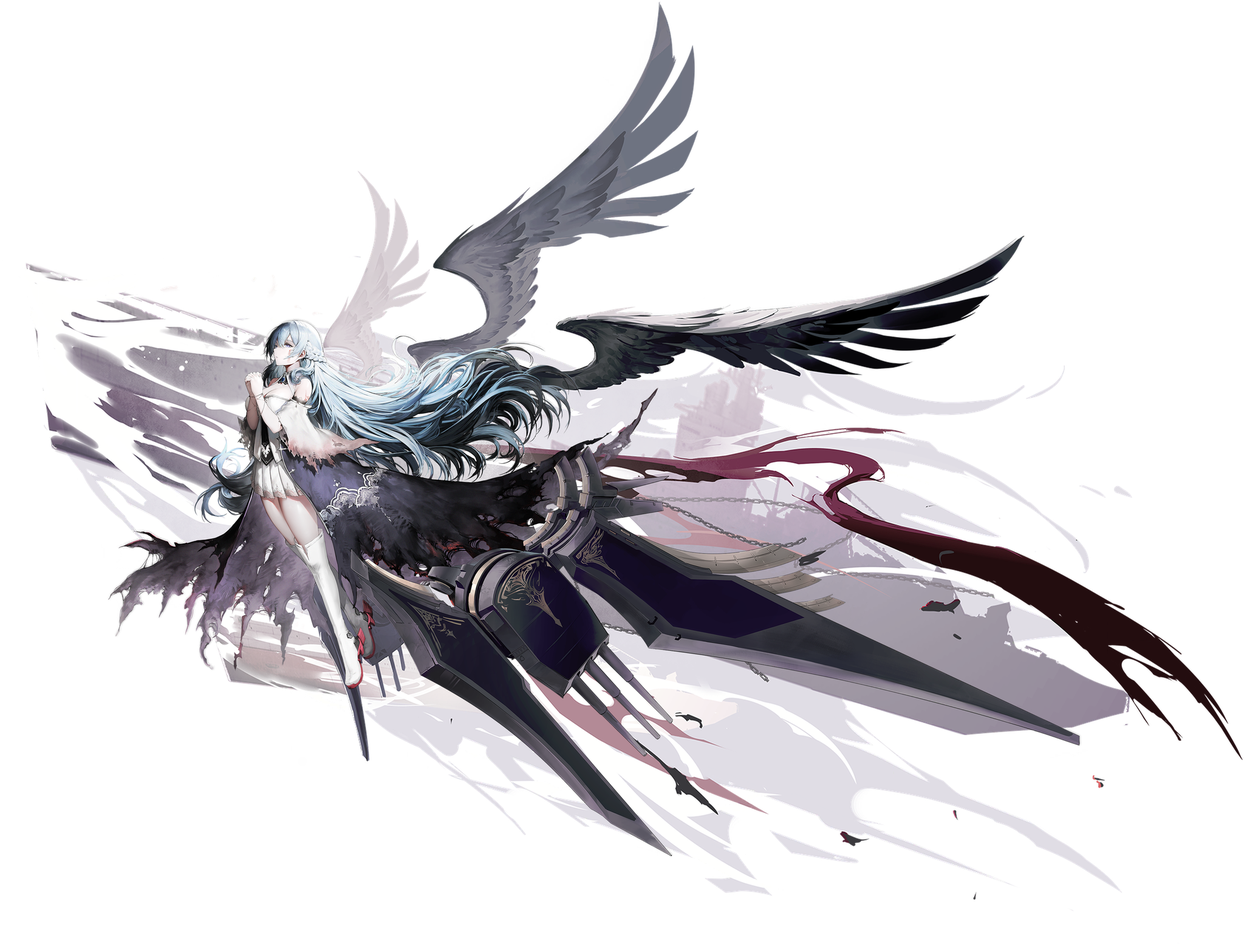person: (168, 290, 426, 749)
